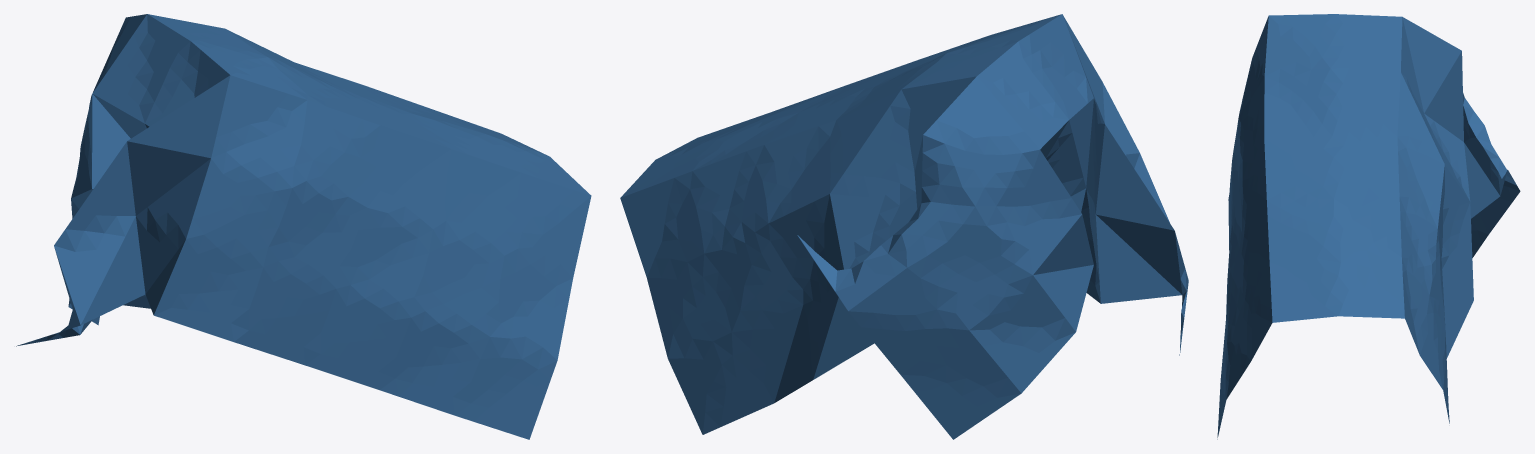
File: task-06.glb
The picture shows the model from 3 angles, left to right: view 1: azimuth 30°, elevation 25°; view 2: azimuth 150°, elevation 25°; view 3: azimuth 270°, elevation 25°; orthographic projection. The views are drawn at different scales.
Parts seen in each view (by area): view 1: cloth__0; view 2: cloth__0; view 3: cloth__0.
Boxes of the visible parts, x1,y1,x2,y2 form: cloth__0: (16, 14, 591, 439); cloth__0: (620, 14, 1188, 439); cloth__0: (1217, 14, 1520, 439).
Size of the model in its own units: 0.438 by 0.3227 by 0.2738.
